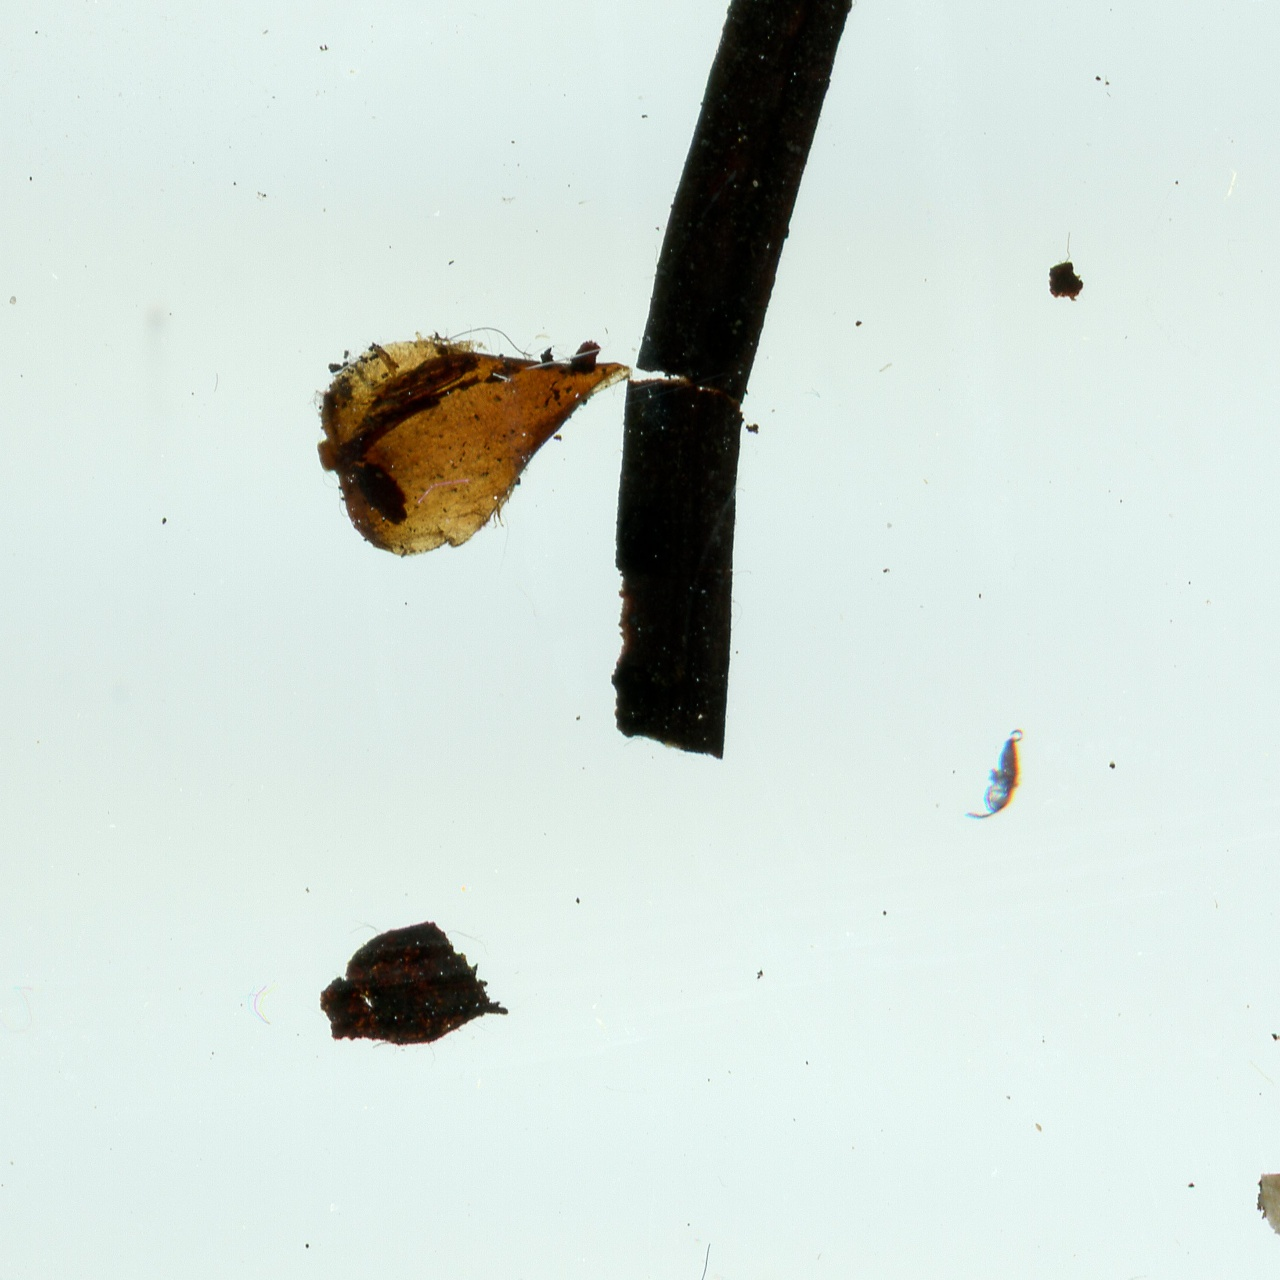arthropod: (959, 733, 1031, 829)
